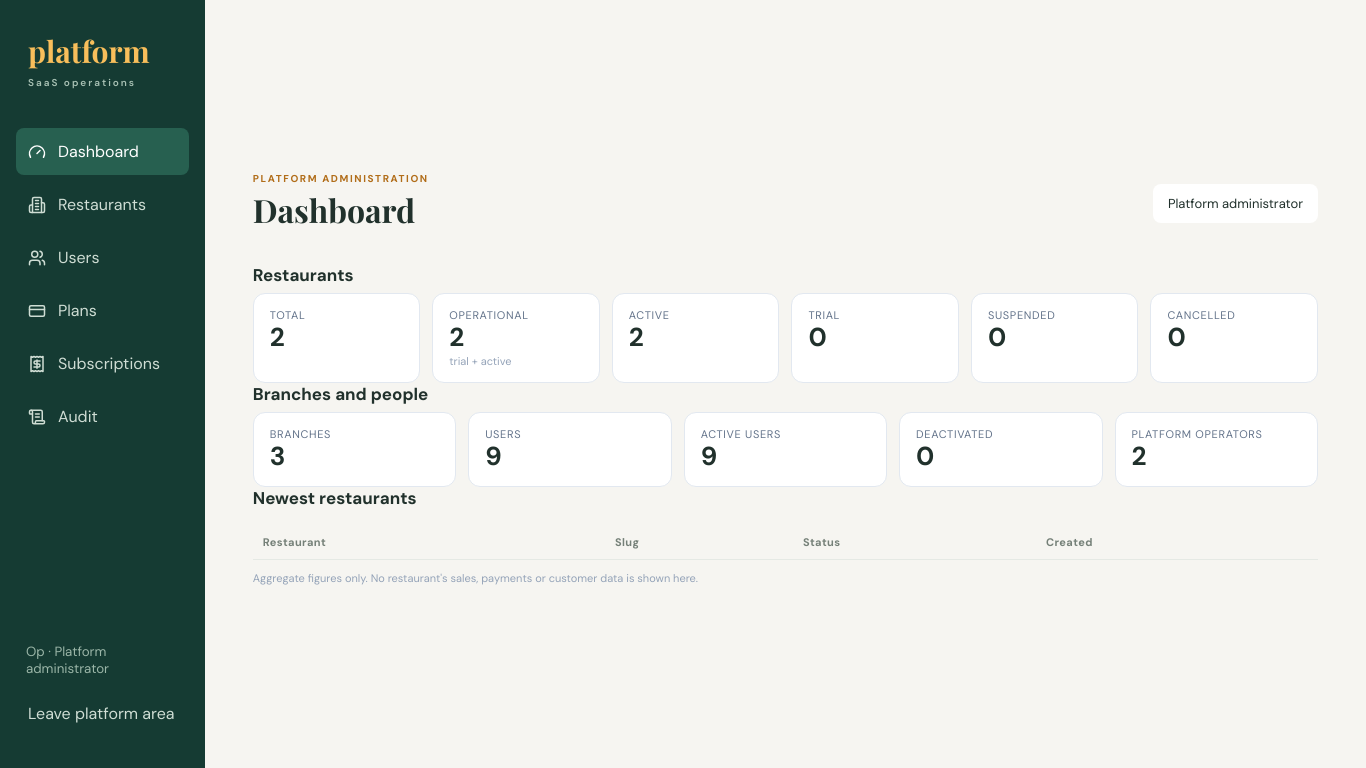
Test: P2C UI · platform plan catalogue › renders the SERVER-formatted price and never recomputes it
What coordinates should you click on to do the following:
click the button "Plans"
I would click on:
 (102, 310)
Its box is [16,287,189,334].
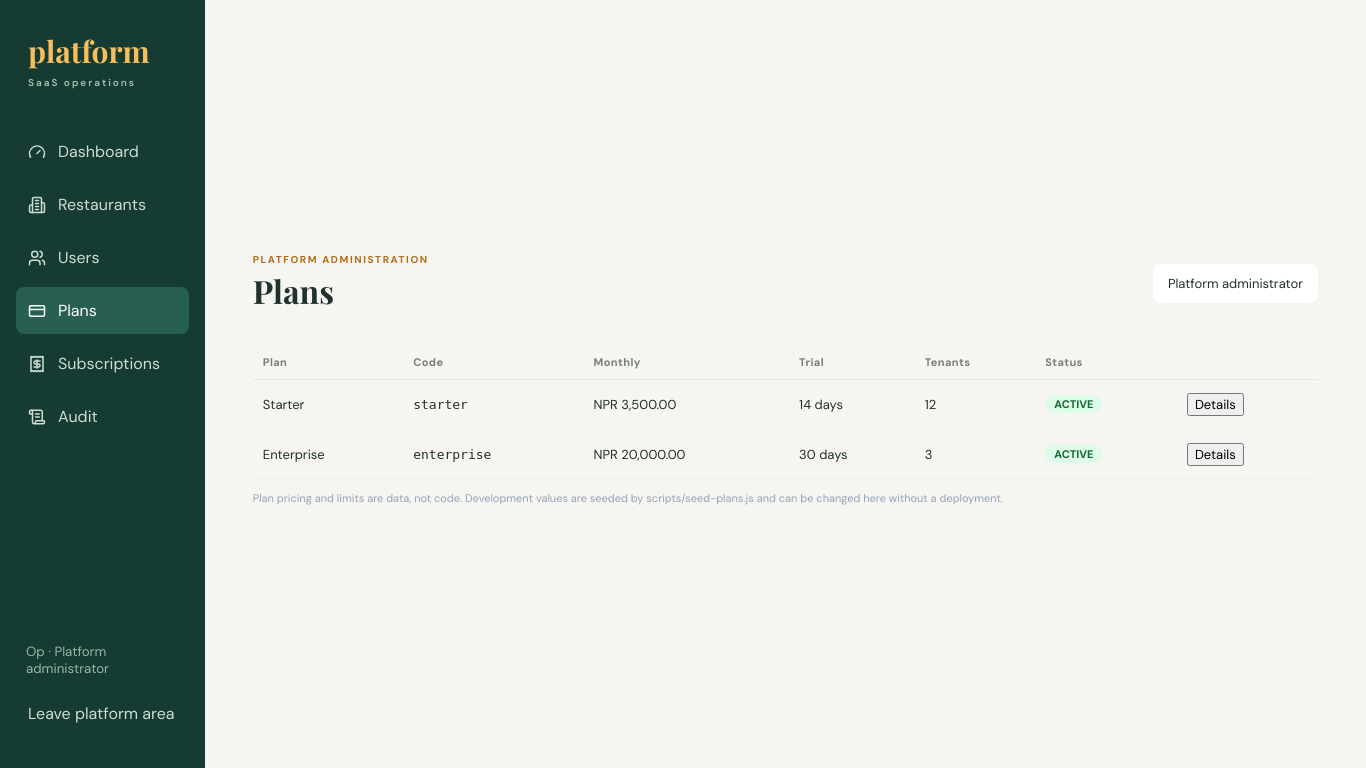
Result: the text "NPR 3,500.00" is shown at [584,379,789,429]
Result: the text "NPR 20,000.00" is shown at [584,429,789,479]
